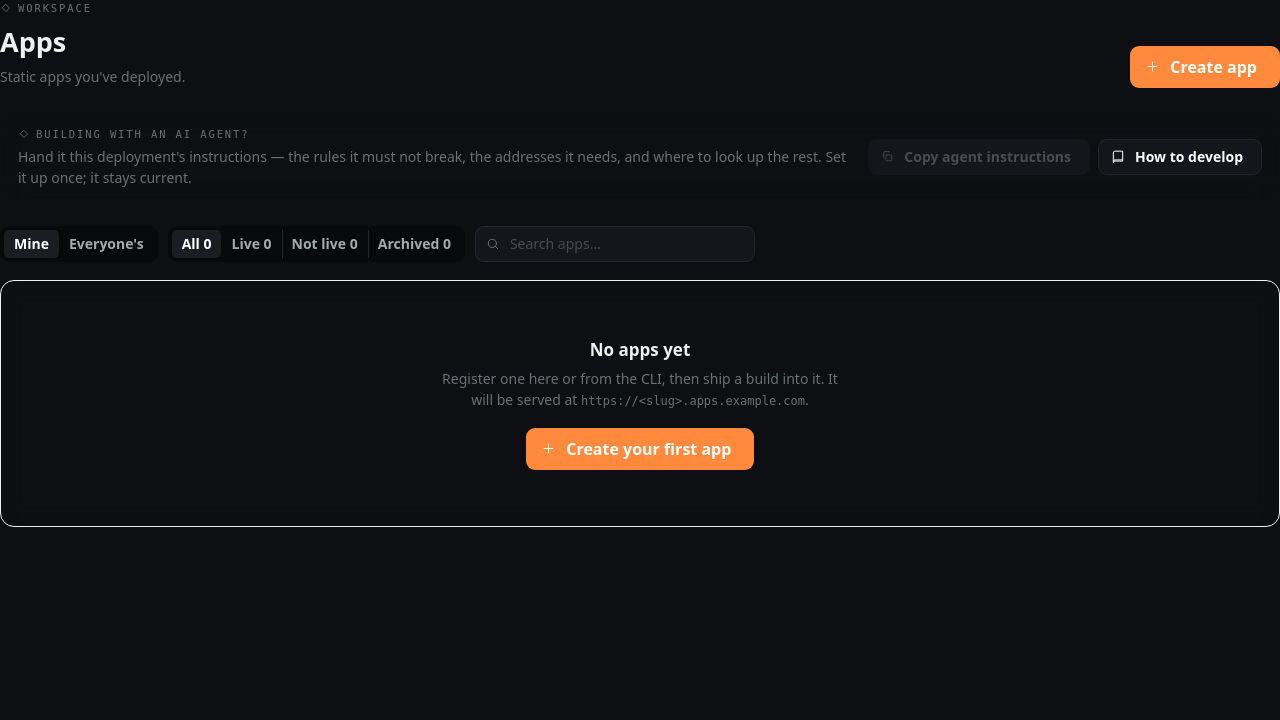
Test: AppsListPage › opens the create modal from the empty state
Click the button "Create your first app": (640, 449) left=526, top=428, right=754, bottom=470
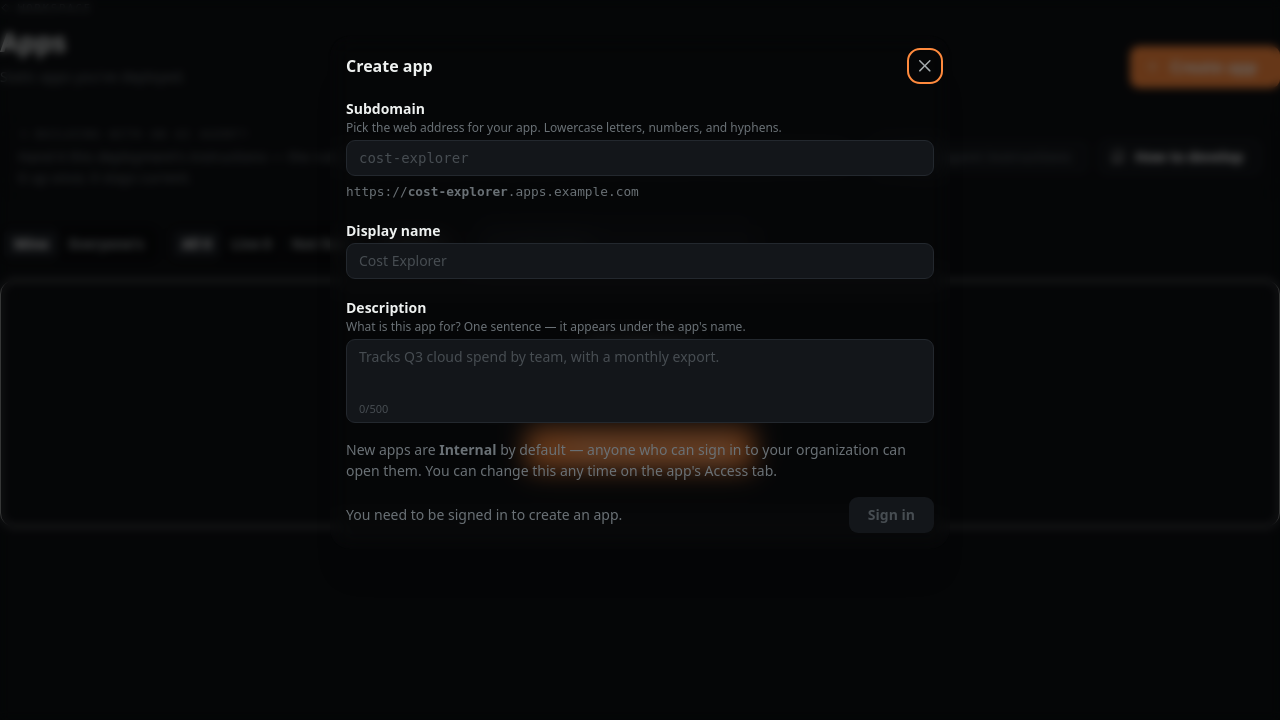
Expected: the field labelled "Subdomain" is shown, left=346, top=140, right=934, bottom=176
